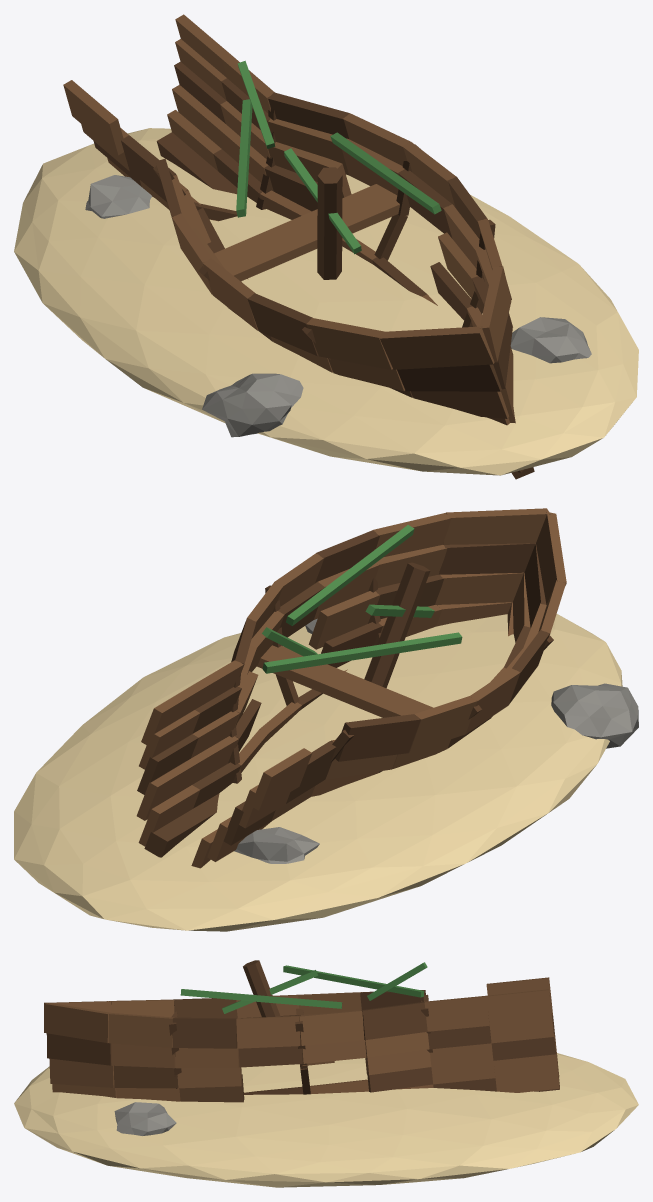
File: isle_boat_wreck_v01.glb
The picture shows the model from 3 angles, top to bottom: view 1: azimuth 30°, elevation 25°; view 2: azimuth 150°, elevation 25°; view 3: azimuth 270°, elevation 25°; orthographic projection. The views are drawn at different scales.
Parts seen in each view (by area): view 1: boat_wreck; view 2: boat_wreck; view 3: boat_wreck.
Boxes of the visible parts, <box> form: boat_wreck: <box>14,14,638,479</box>; boat_wreck: <box>14,508,638,931</box>; boat_wreck: <box>14,960,638,1187</box>.
Bounding box in the file's own units: 2.5 × 1.26 × 4.22.
